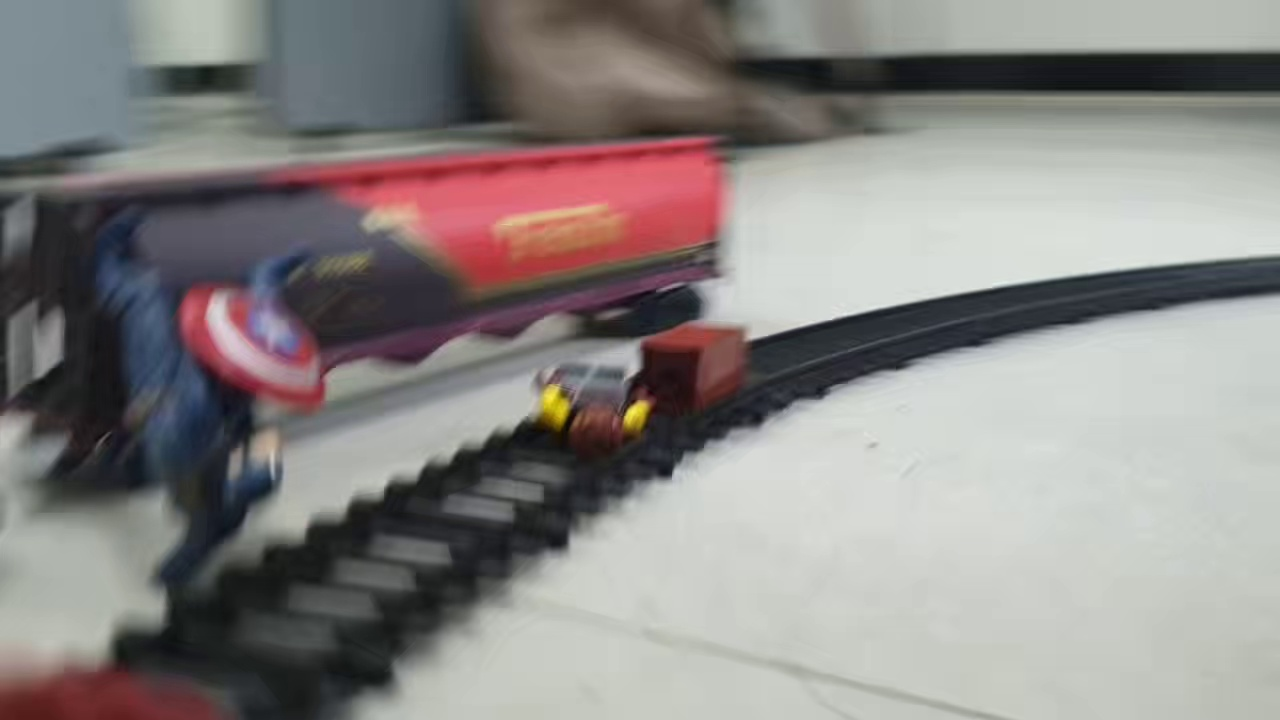box: (638, 323, 750, 417)
people: (78, 205, 330, 585), (529, 363, 656, 457)
